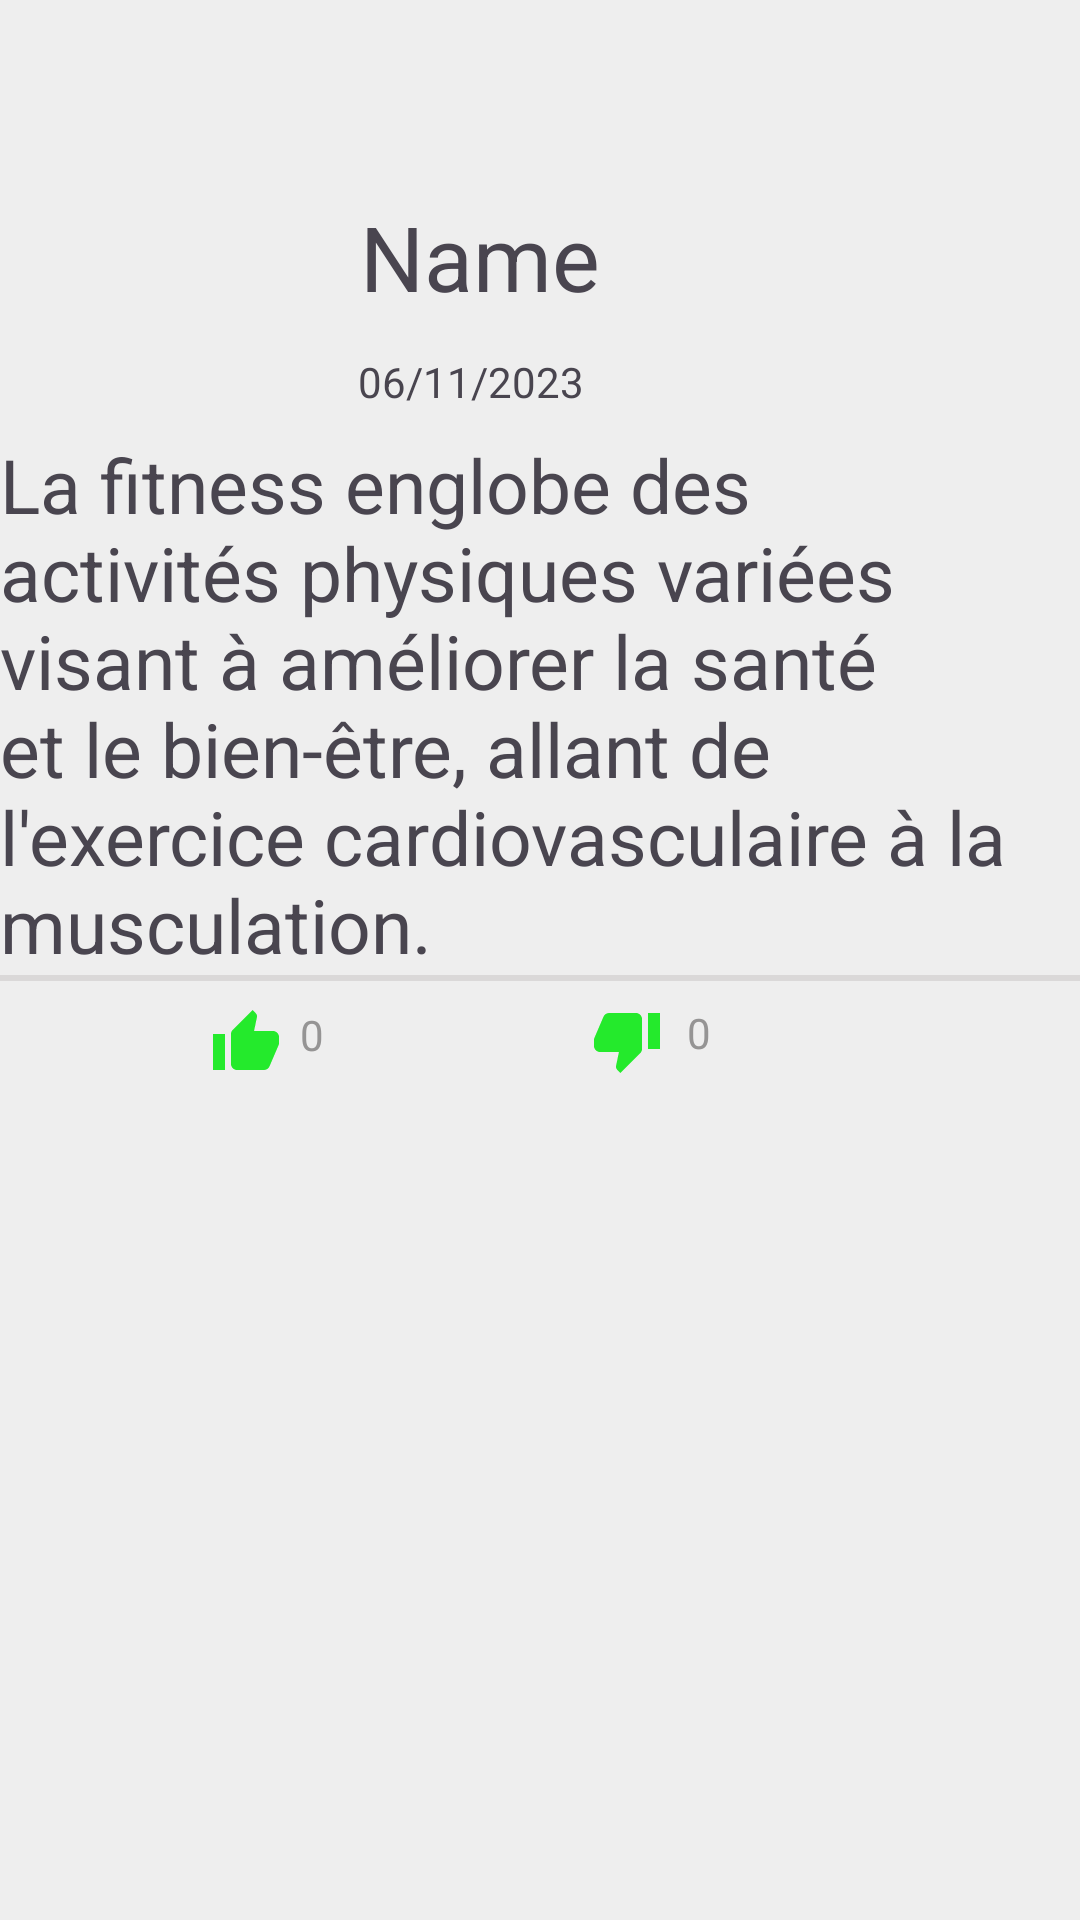

Where icons sit on this 1080px×1920px app screen, as (x1, y1, x2, y2):
thumb down: (594, 1013, 660, 1073)
thumb up: (213, 1010, 279, 1070)
